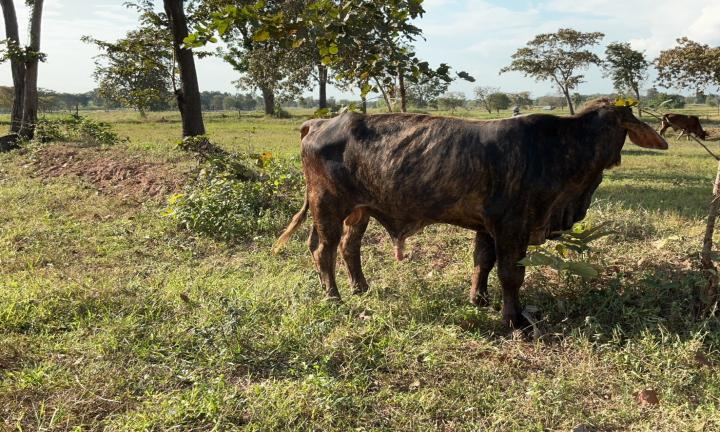Charolais: (275, 100, 667, 326)
